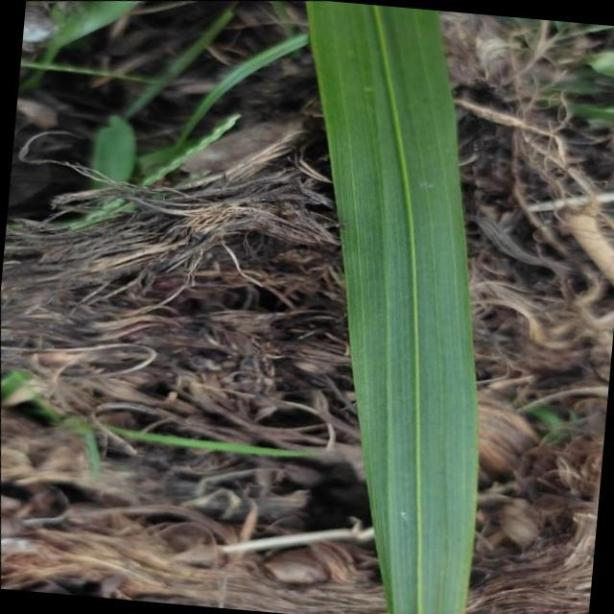Healthy: (304, 0, 472, 614)
